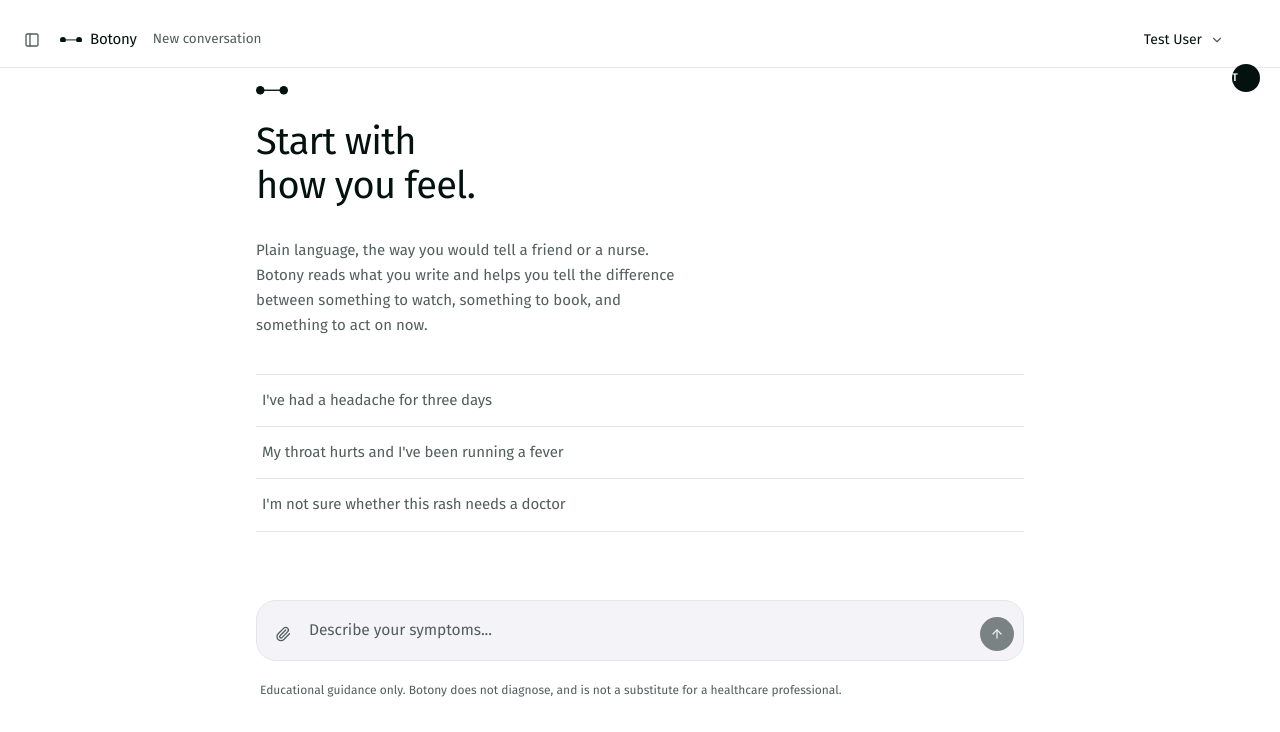
Test case: Chat emergency detection › does not show the emergency warning for a normal message
(page scrolled)
Type "I have a mild headache" into the text box with placeholder "Describe your symptoms..." at [640, 630], box [307,609,973,652]
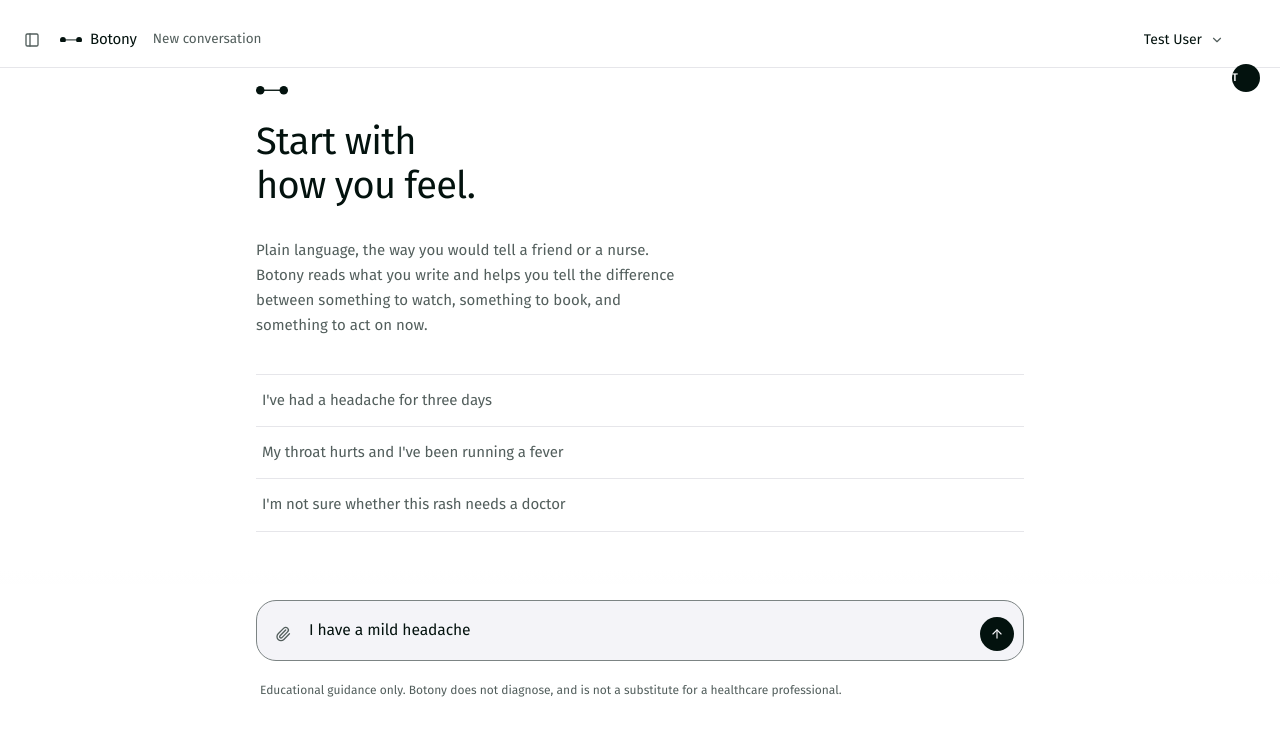
Click the button named "send" at [997, 634], box [979,616,1015,652]
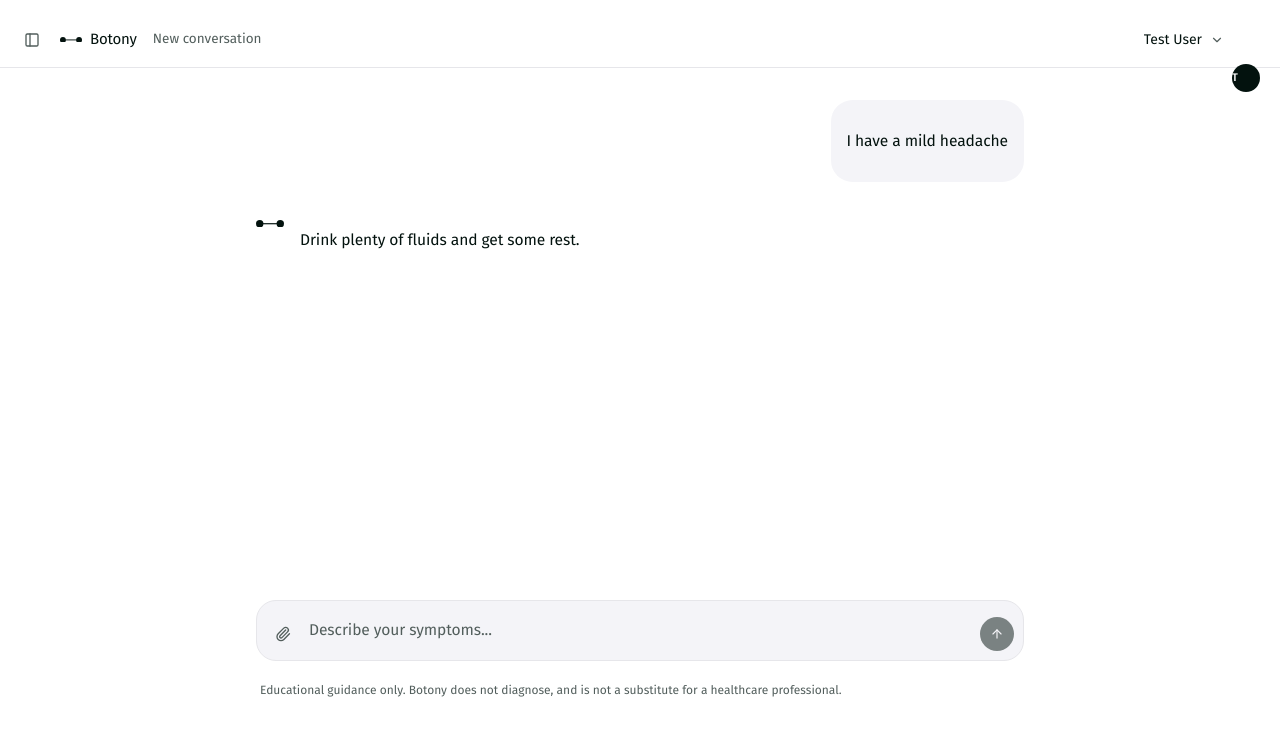
Expected: the text "Drink plenty of fluids and get some rest." is shown, [300,227,580,253]
